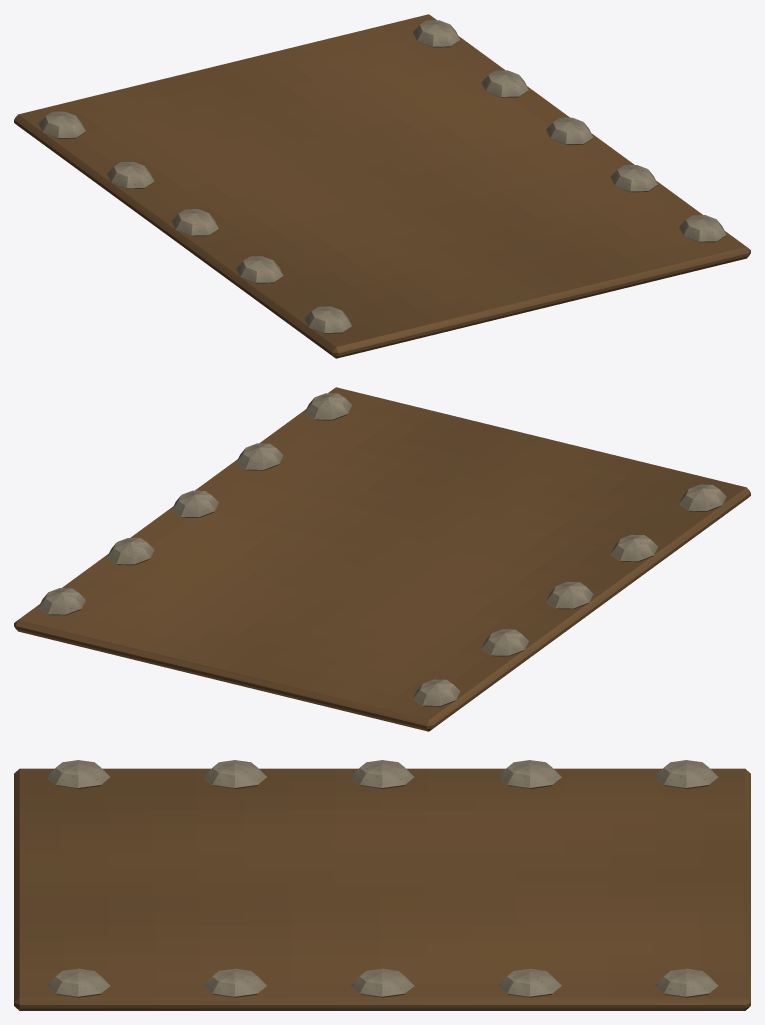
Rendered from DirtPath_Straight.glb.
3 views of the same model, one above another, from view 1: azimuth 30°, elevation 25°; view 2: azimuth 150°, elevation 25°; view 3: azimuth 270°, elevation 25° (orthographic). The views are drawn at different scales.
Visible parts, largest first — view 1: CompactedEarth, EdgePebble1_-1.0, EdgePebble2_-1.0, EdgePebble4_1.0, EdgePebble0_1.0, EdgePebble3_1.0, EdgePebble0_-1.0, EdgePebble1_1.0, EdgePebble4_-1.0, EdgePebble2_1.0, EdgePebble3_-1.0; view 2: CompactedEarth, EdgePebble3_-1.0, EdgePebble2_-1.0, EdgePebble0_1.0, EdgePebble1_1.0, EdgePebble4_1.0, EdgePebble4_-1.0, EdgePebble3_1.0, EdgePebble0_-1.0, EdgePebble2_1.0, EdgePebble1_-1.0; view 3: CompactedEarth, EdgePebble0_1.0, EdgePebble2_1.0, EdgePebble4_1.0, EdgePebble1_-1.0, EdgePebble3_-1.0, EdgePebble1_1.0, EdgePebble3_1.0, EdgePebble0_-1.0, EdgePebble2_-1.0, EdgePebble4_-1.0.
Boxes of the visible parts, x1,y1,x2,y2 form: CompactedEarth: [14, 14, 750, 358]; EdgePebble1_-1.0: [236, 256, 283, 283]; EdgePebble2_-1.0: [171, 209, 218, 236]; EdgePebble4_1.0: [413, 20, 460, 47]; EdgePebble0_1.0: [679, 215, 726, 242]; EdgePebble3_1.0: [481, 70, 528, 97]; EdgePebble0_-1.0: [304, 306, 351, 333]; EdgePebble1_1.0: [610, 165, 657, 192]; EdgePebble4_-1.0: [38, 111, 85, 138]; EdgePebble2_1.0: [546, 117, 593, 144]; EdgePebble3_-1.0: [107, 161, 154, 189]; CompactedEarth: [14, 387, 750, 731]; EdgePebble3_-1.0: [481, 629, 528, 656]; EdgePebble2_-1.0: [546, 582, 593, 609]; EdgePebble0_1.0: [304, 393, 351, 420]; EdgePebble1_1.0: [236, 443, 283, 470]; EdgePebble4_1.0: [38, 588, 85, 615]; EdgePebble4_-1.0: [413, 679, 460, 706]; EdgePebble3_1.0: [107, 538, 154, 565]; EdgePebble0_-1.0: [679, 484, 726, 511]; EdgePebble2_1.0: [171, 490, 218, 517]; EdgePebble1_-1.0: [610, 534, 657, 562]; CompactedEarth: [14, 768, 750, 1010]; EdgePebble0_1.0: [46, 968, 110, 997]; EdgePebble2_1.0: [350, 968, 414, 997]; EdgePebble4_1.0: [654, 968, 718, 997]; EdgePebble1_-1.0: [203, 760, 266, 788]; EdgePebble3_-1.0: [498, 760, 561, 788]; EdgePebble1_1.0: [203, 968, 266, 997]; EdgePebble3_1.0: [498, 968, 561, 997]; EdgePebble0_-1.0: [46, 760, 110, 788]; EdgePebble2_-1.0: [350, 760, 414, 788]; EdgePebble4_-1.0: [654, 760, 718, 788].
Size of the model in its own units: 3 by 0.17 by 4.
Materials: 2 (2 with a texture image).
